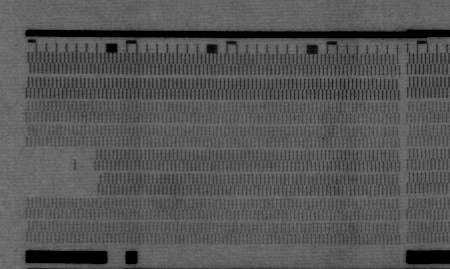Broken hole: (24, 144, 103, 198)
